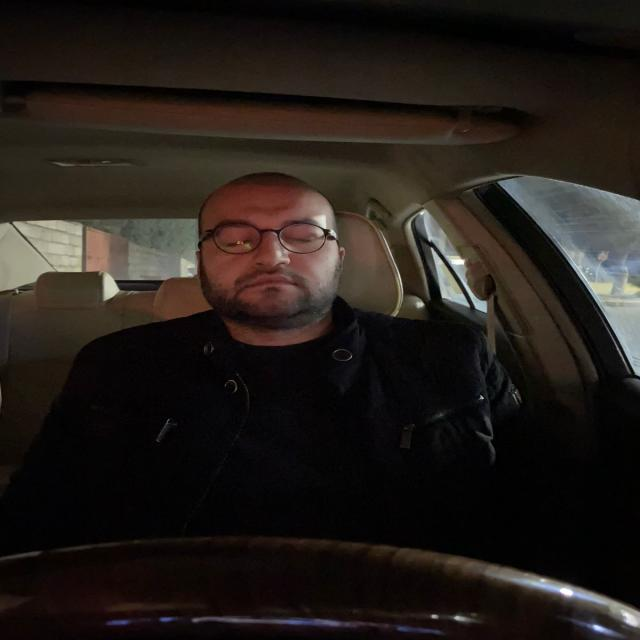drowsy: (189, 170, 355, 337)
